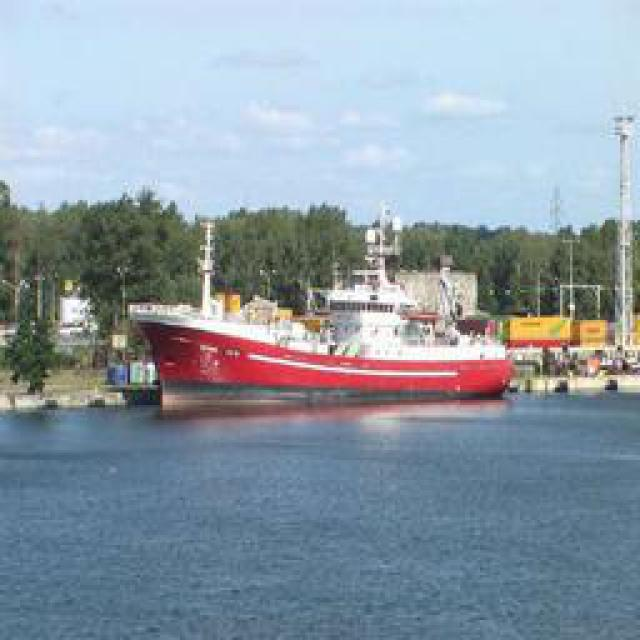Ship: (131, 206, 516, 404)
